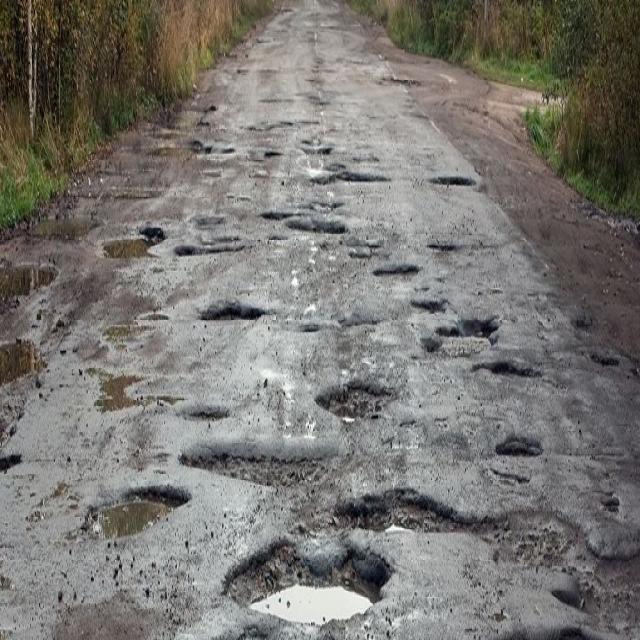pothole1: (226, 524, 372, 632), (188, 436, 320, 498), (342, 482, 460, 533), (85, 474, 174, 534), (488, 409, 542, 486), (321, 377, 397, 426), (200, 298, 268, 352), (479, 360, 555, 402), (428, 320, 508, 358), (105, 216, 150, 277), (95, 362, 143, 410), (362, 254, 422, 290), (433, 165, 486, 198), (590, 480, 628, 526), (280, 202, 341, 230), (594, 351, 626, 376)
